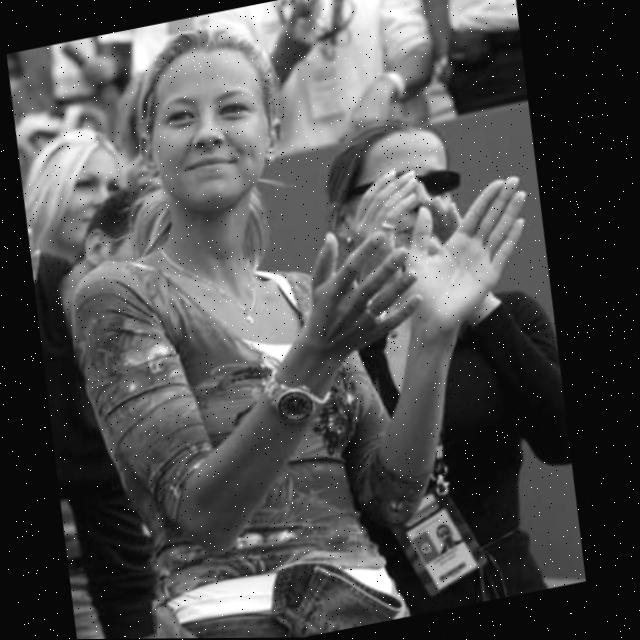face: (128, 21, 295, 245), (301, 121, 467, 258), (17, 124, 129, 258)
